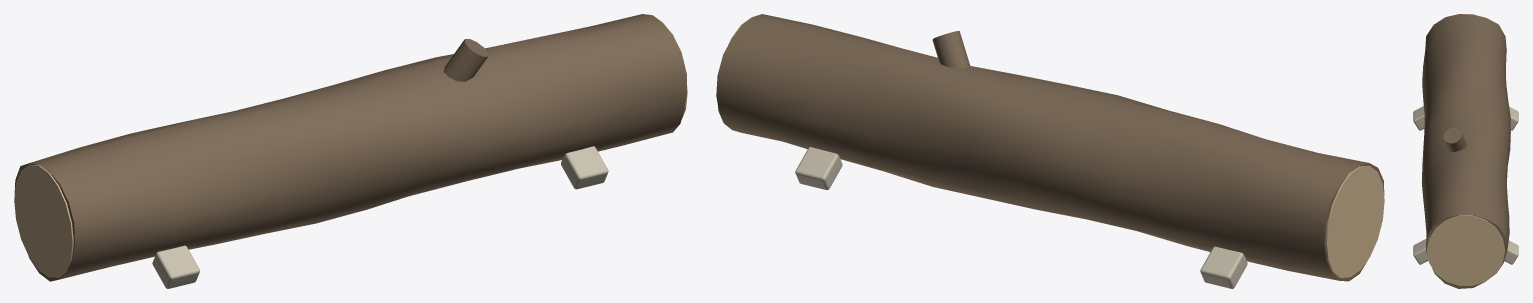
Rendered from industrial.yard.log.glb.
The picture shows the model from 3 angles, left to right: view 1: azimuth 30°, elevation 25°; view 2: azimuth 150°, elevation 25°; view 3: azimuth 270°, elevation 25°; orthographic projection. The views are drawn at different scales.
Visible parts, largest first — view 1: main__paint_765, main__paint_cb8, main__paint_cba; view 2: main__paint_765, main__paint_cb8, main__paint_cba; view 3: main__paint_765, main__paint_cb8, main__paint_cba.
Part boxes in pixels (x1,y1,x2,y2): main__paint_765: [14, 14, 686, 281]; main__paint_cb8: [14, 15, 687, 277]; main__paint_cba: [152, 146, 608, 288]; main__paint_765: [716, 14, 1384, 281]; main__paint_cb8: [718, 18, 1384, 277]; main__paint_cba: [795, 147, 1247, 288]; main__paint_765: [1421, 14, 1510, 288]; main__paint_cb8: [1426, 14, 1505, 285]; main__paint_cba: [1413, 106, 1518, 264].
Size of the model in its own units: 2.41 by 0.559 by 0.5316.
